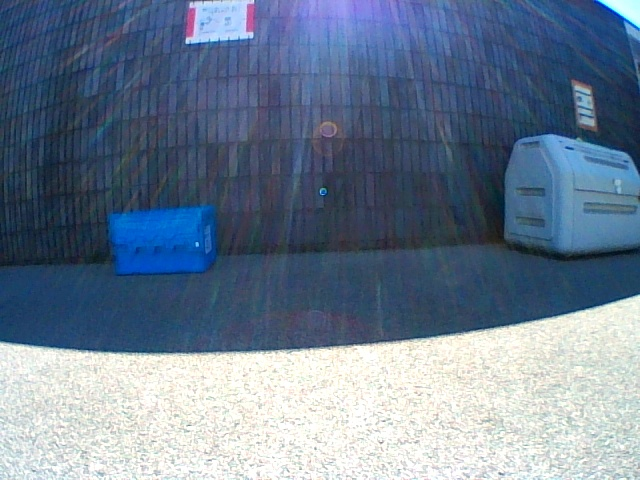blue_box: (109, 206, 216, 275)
tag: (205, 226, 210, 251)
